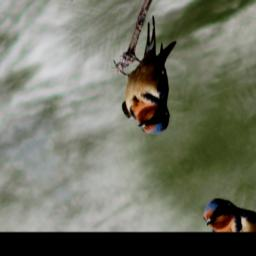Swallow: (84, 14, 213, 146)
